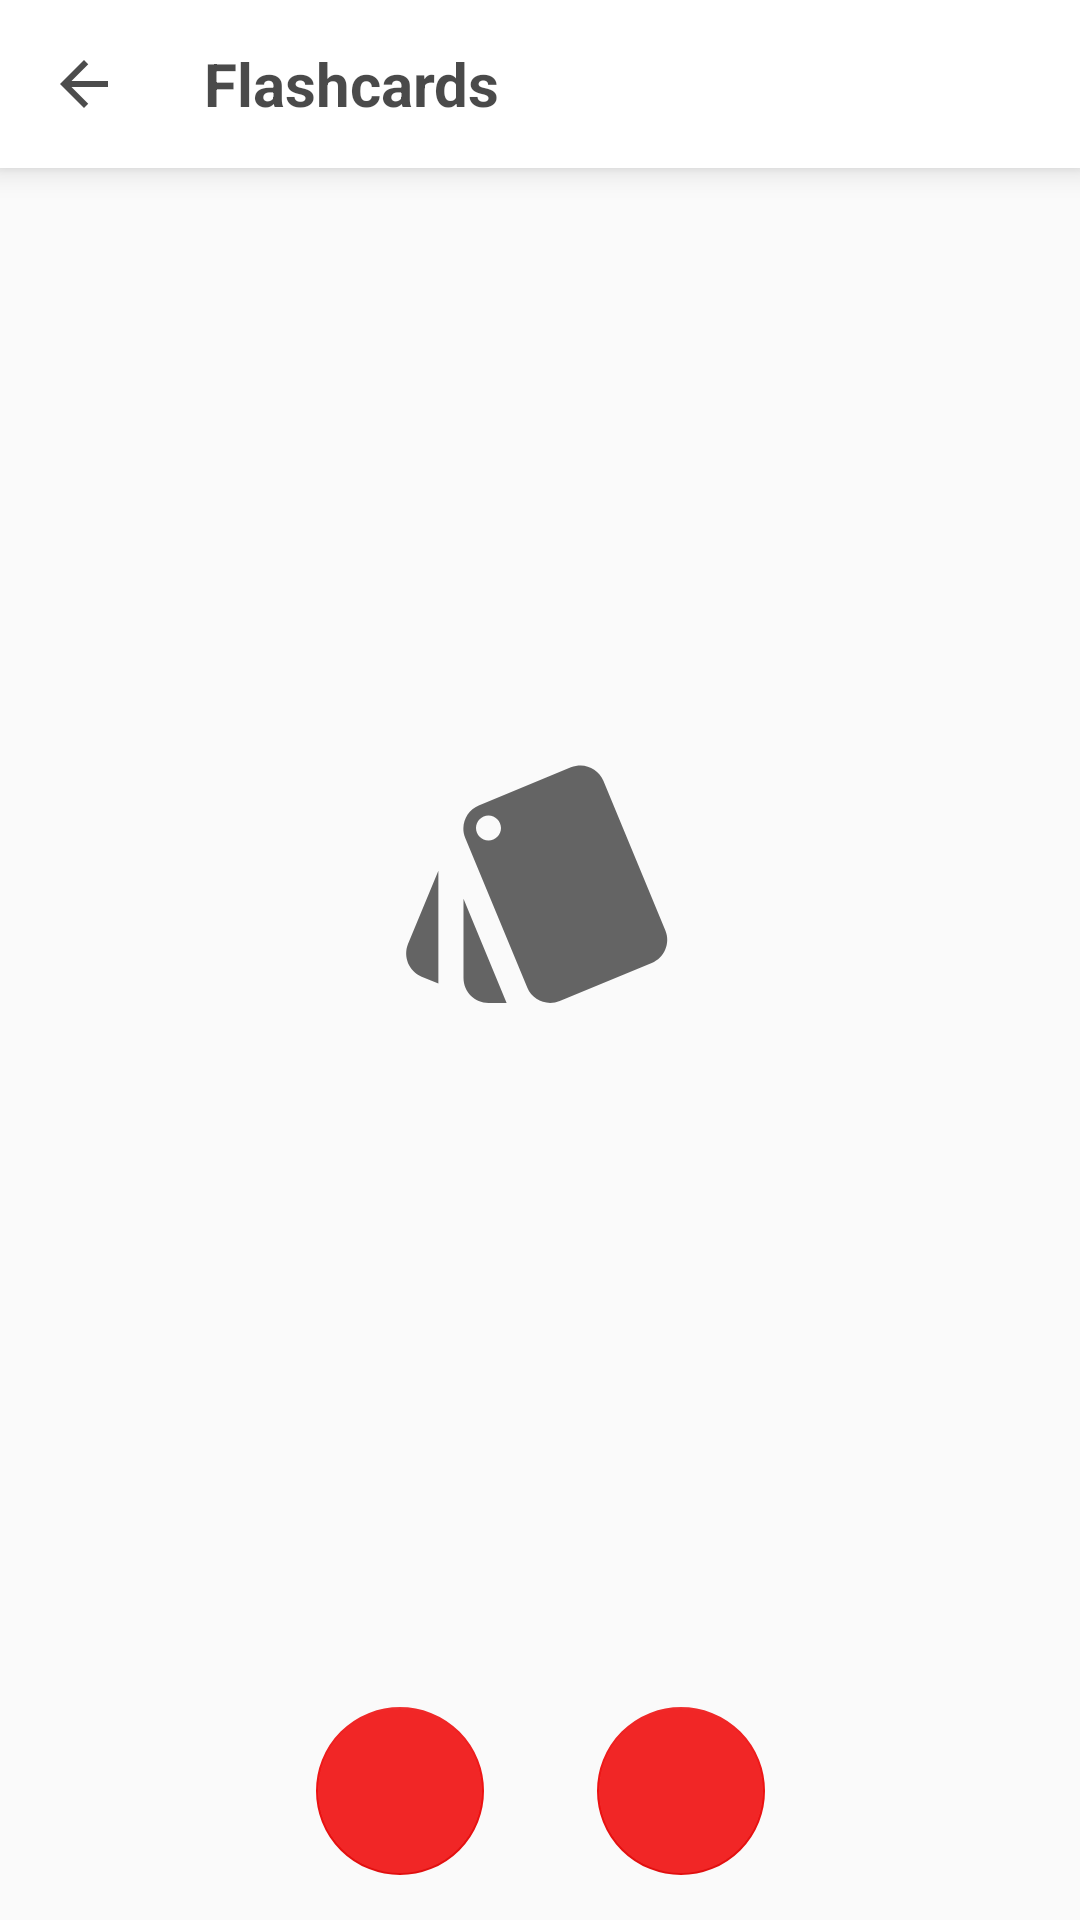

Screen size 1080px×1920px. Icon name, then its box in pixels as (x1, y1, x2, y2):
arrow back: (60, 60, 108, 108)
style: (406, 765, 668, 1003)
